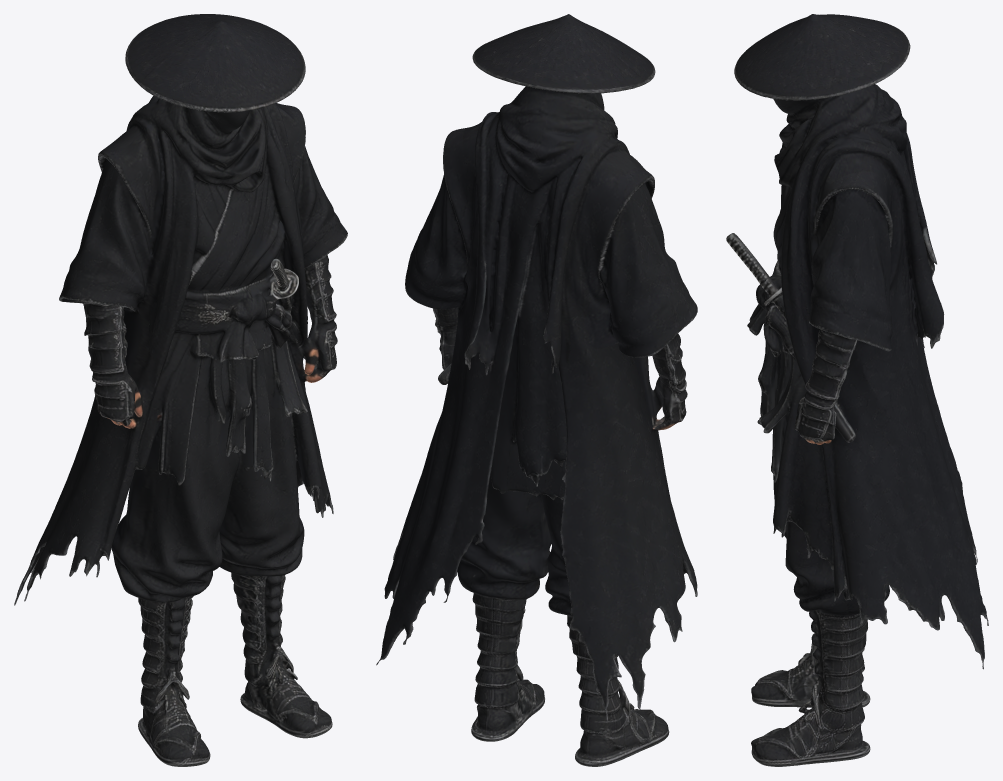
File: ninja-mode.glb
The picture shows the model from 3 angles, left to right: view 1: azimuth 30°, elevation 25°; view 2: azimuth 150°, elevation 25°; view 3: azimuth 270°, elevation 25°; orthographic projection.
Visible parts, largest first — view 1: mesh_node; view 2: mesh_node; view 3: mesh_node.
Boxes of the visible parts, x1,y1,x2,y2 form: mesh_node: (14, 14, 347, 766); mesh_node: (376, 14, 697, 766); mesh_node: (726, 14, 988, 766).
Bounding box in the file's own units: 0.7916 × 1.89 × 0.6322.
Materials: 1 (1 with a texture image).
